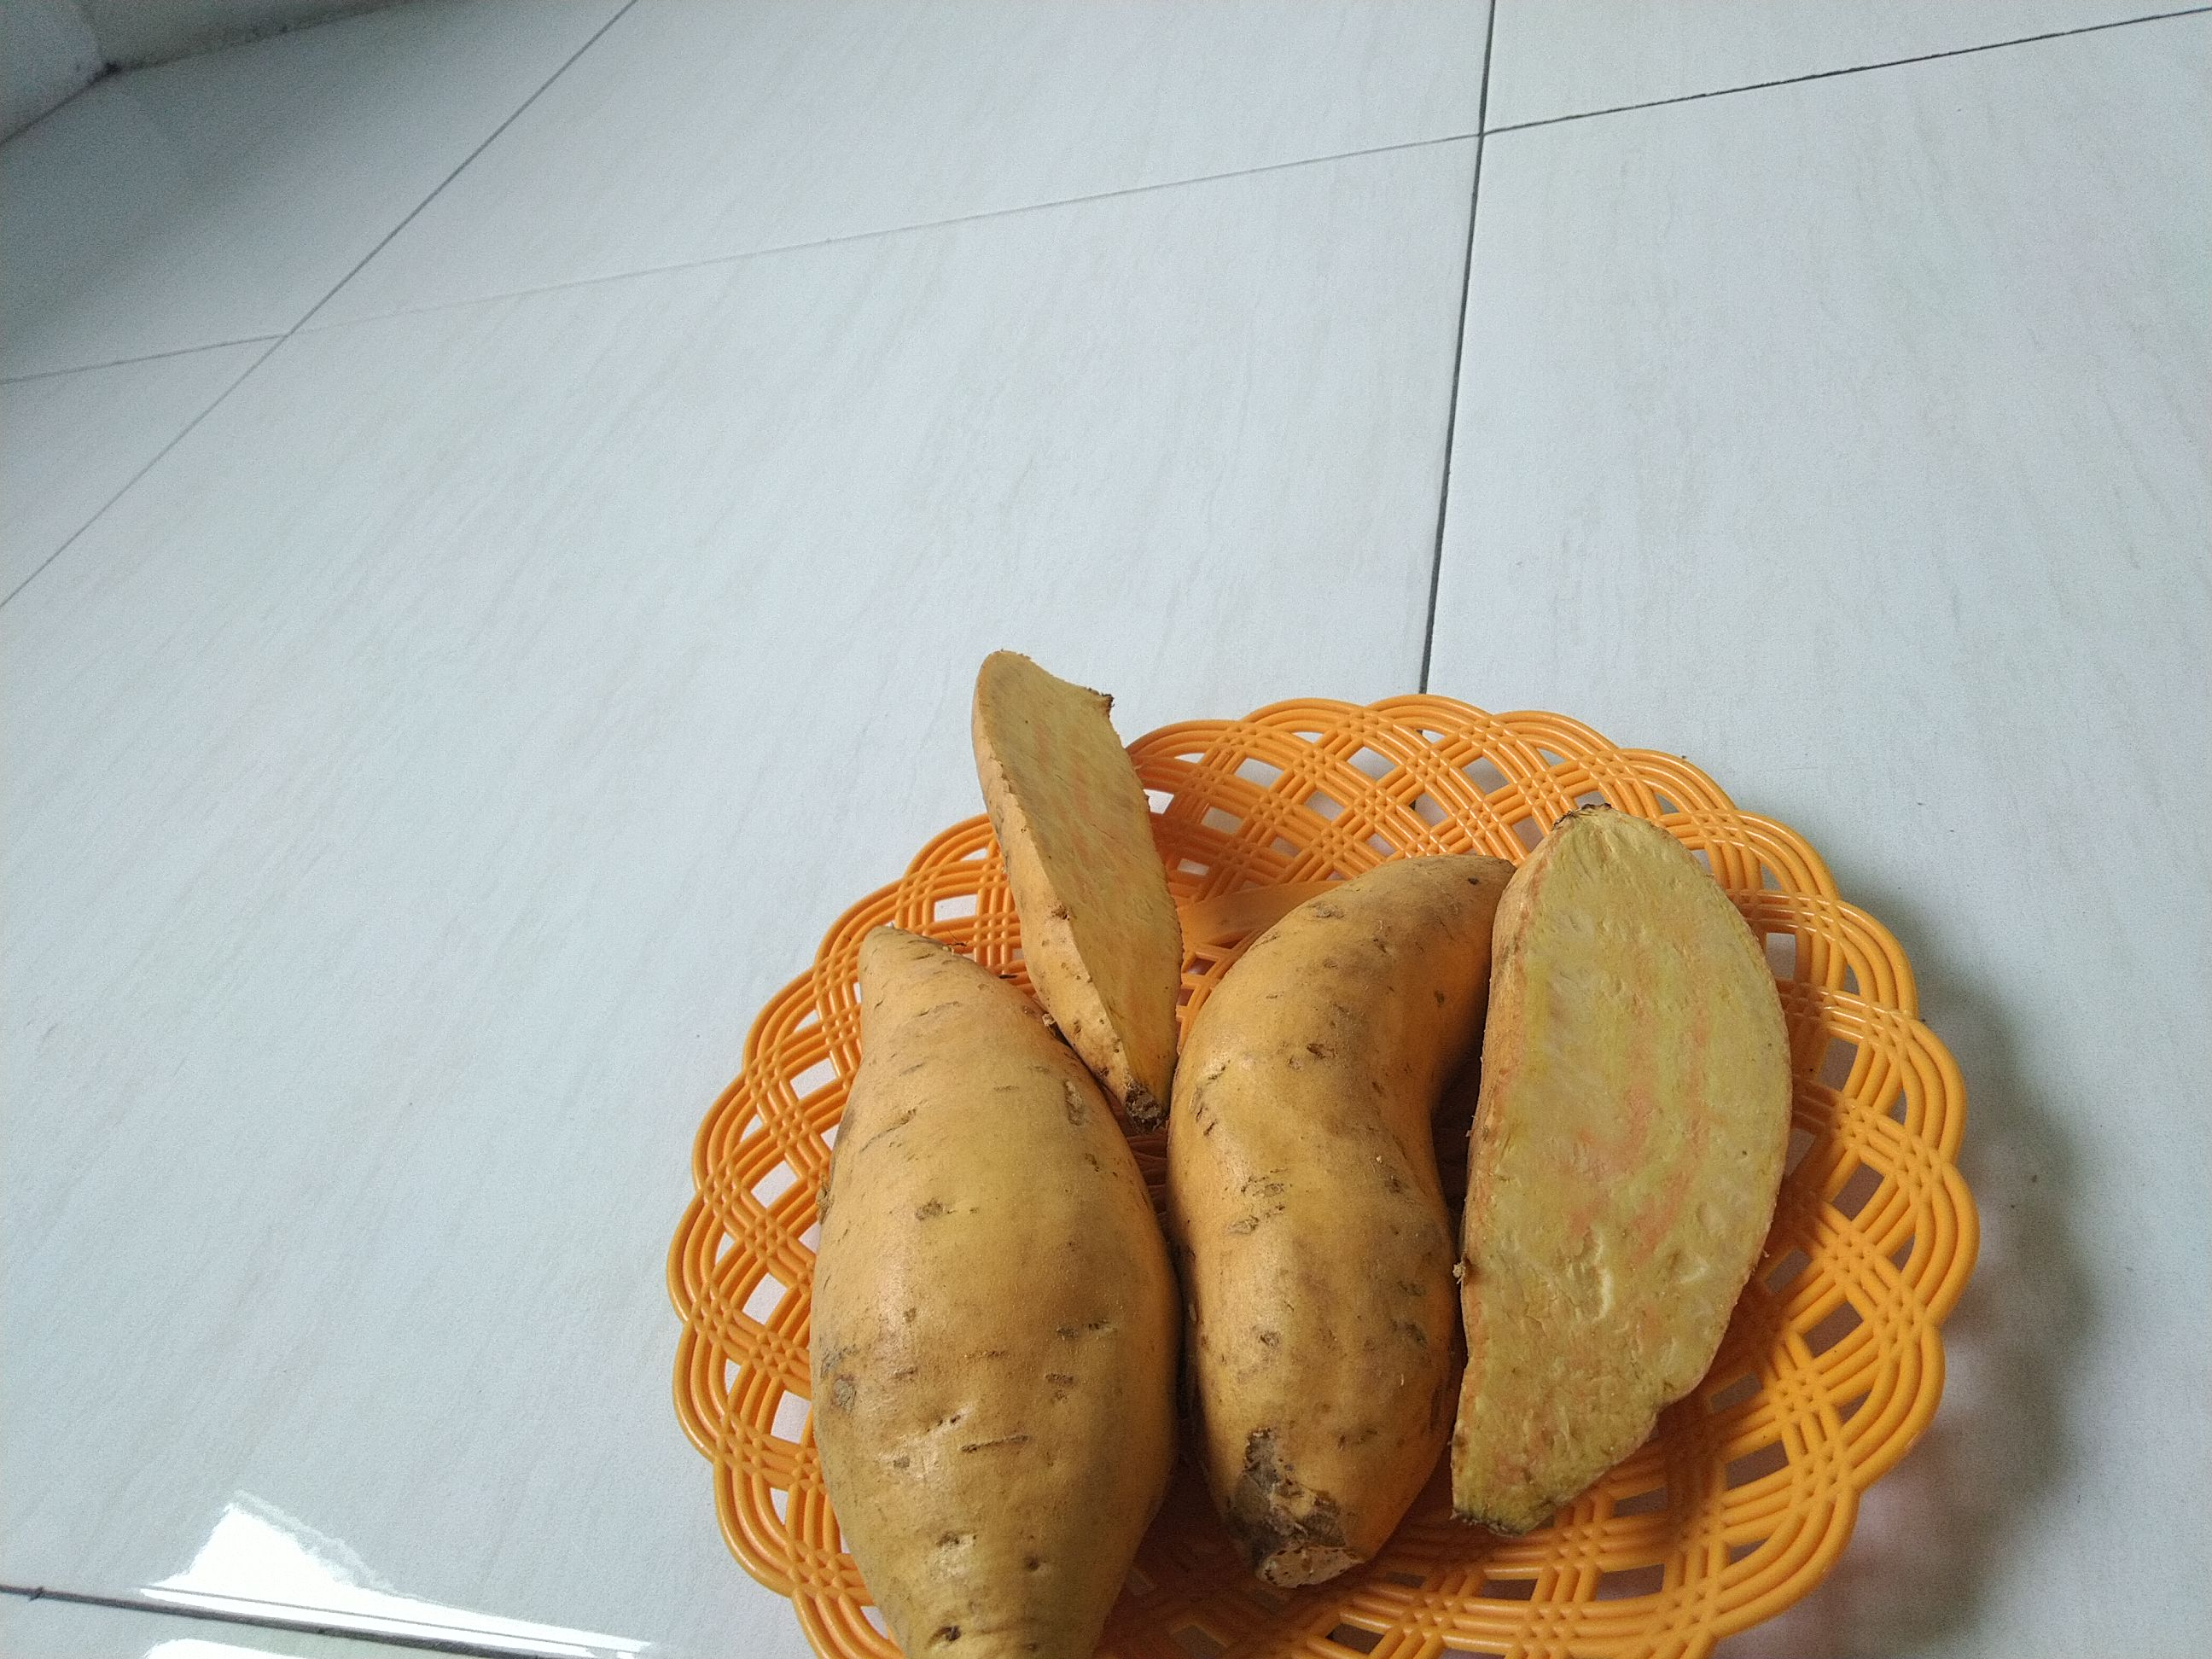ubi cilembu: (1176, 812, 1522, 1600), (822, 920, 1177, 1659), (1468, 779, 1782, 1534), (968, 631, 1224, 1138)
